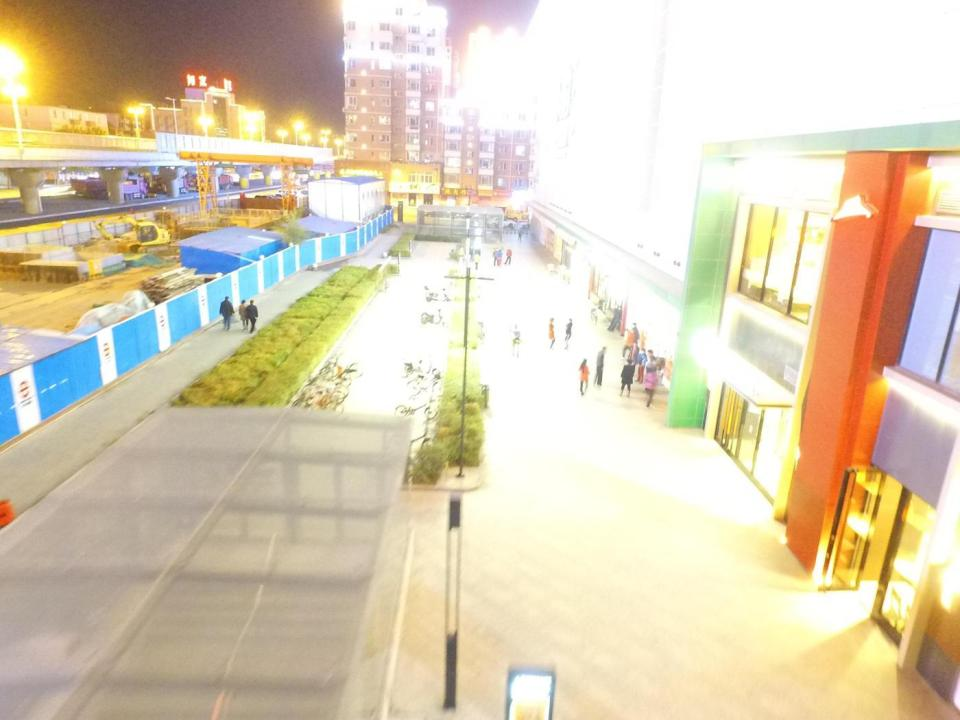car: (486, 217, 516, 228), (425, 210, 451, 219)
truck: (70, 175, 120, 199), (114, 177, 147, 199), (482, 207, 521, 221), (180, 175, 200, 193), (216, 174, 233, 191)
